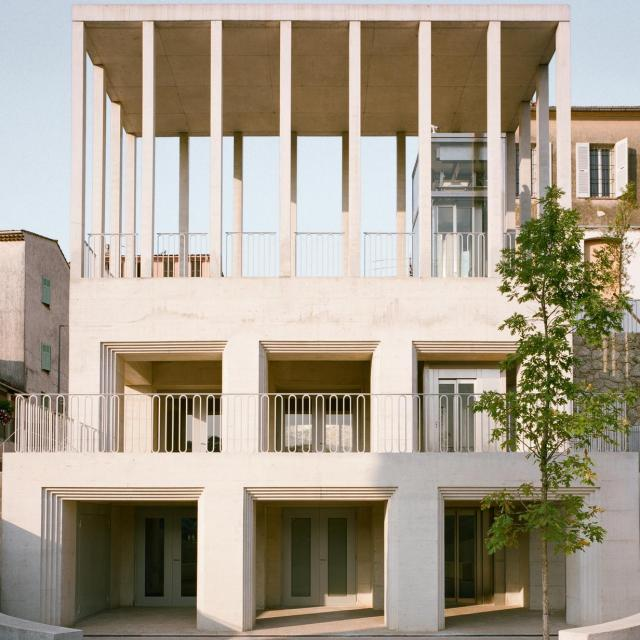door: (284, 506, 358, 606), (132, 509, 200, 608), (446, 506, 482, 604)
railing: (14, 394, 628, 450), (221, 231, 280, 278), (84, 232, 141, 279), (429, 231, 487, 277), (361, 233, 417, 276), (155, 233, 209, 276), (296, 231, 346, 277)
window: (439, 378, 477, 396)
